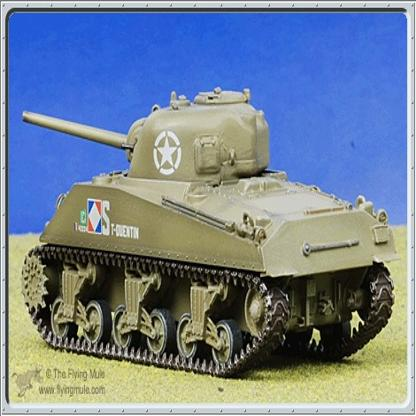Tank: (11, 83, 399, 372)
